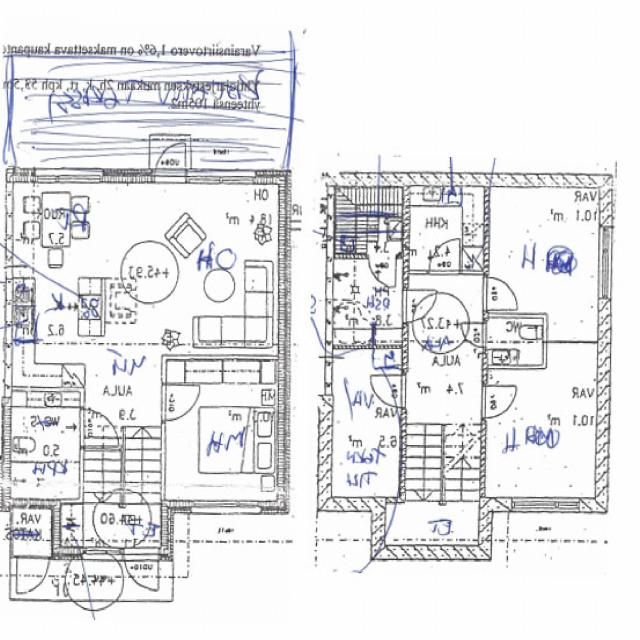door: (124, 546, 159, 598), (155, 137, 186, 184), (79, 409, 118, 446), (17, 556, 49, 595), (161, 386, 197, 420), (479, 386, 515, 419), (479, 278, 515, 310), (426, 237, 456, 274), (371, 376, 406, 407), (400, 290, 434, 321), (368, 254, 396, 288), (458, 324, 484, 346)
